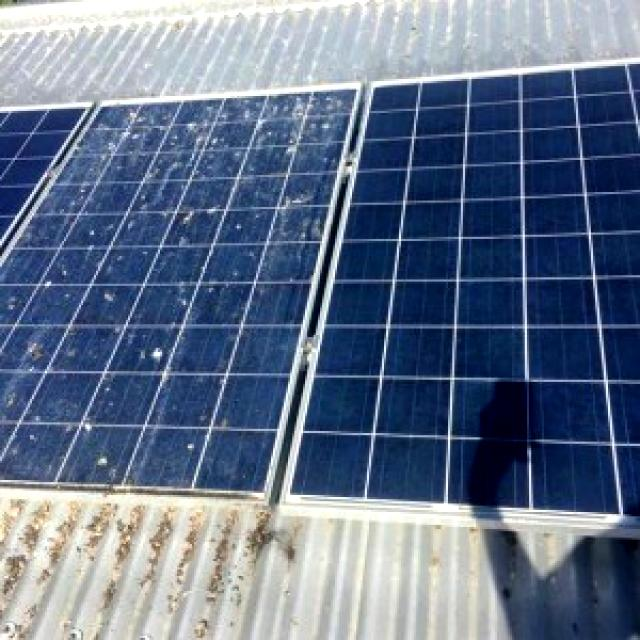bird: (132, 187, 218, 225), (60, 404, 125, 438), (16, 328, 50, 381), (268, 183, 318, 216), (82, 278, 136, 308), (130, 334, 172, 360), (90, 451, 134, 475)
